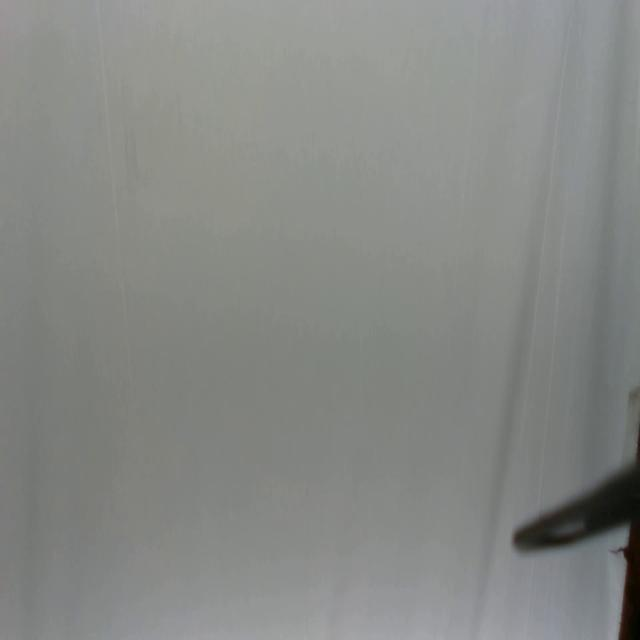crease: (518, 21, 573, 483), (95, 0, 127, 316)
